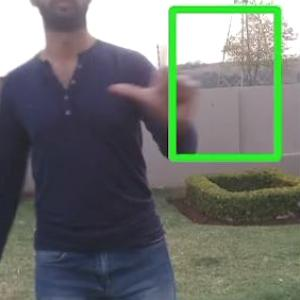land_hand: (105, 18, 204, 118)
